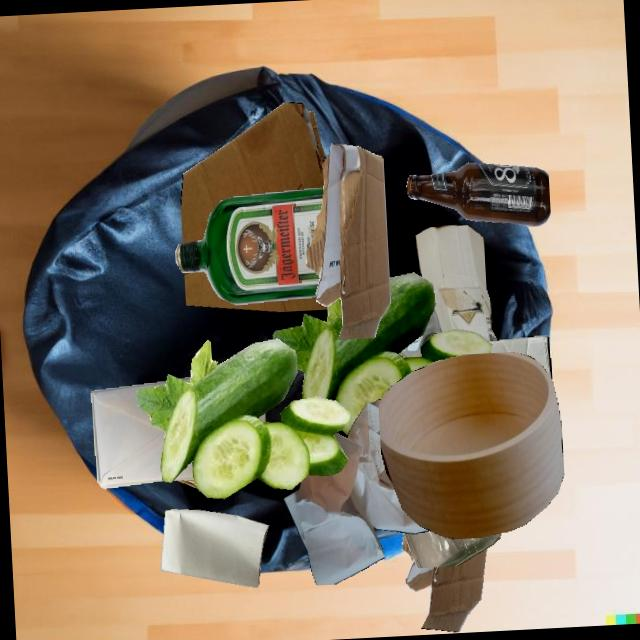biowaste: (273, 272, 492, 435), (136, 339, 351, 499)
cardboard: (181, 102, 325, 244), (306, 143, 391, 340), (416, 225, 497, 341), (402, 534, 487, 632), (488, 335, 552, 381)
combustible waste: (379, 352, 564, 539)
glass: (176, 187, 324, 305), (407, 163, 551, 227), (403, 530, 501, 569), (398, 308, 443, 358), (177, 479, 198, 489)
paper: (284, 399, 429, 585), (161, 384, 266, 481), (161, 509, 269, 587), (91, 381, 166, 489), (488, 341, 489, 341)
